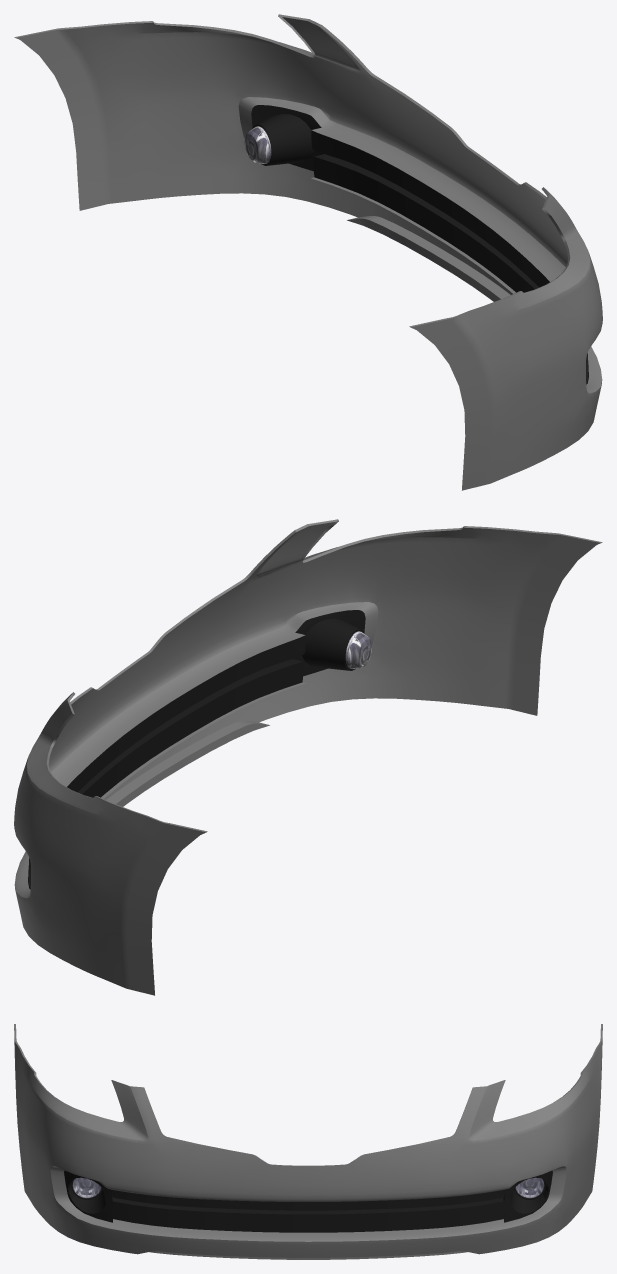
3 views of the same model, one above another, from view 1: azimuth 30°, elevation 25°; view 2: azimuth 150°, elevation 25°; view 3: azimuth 270°, elevation 25° (orthographic). The views are drawn at different scales.
Visible parts, largest first — view 1: Z187_021G_C_5_DaS_Z187_021G_C, Z187_021G_C_5_DaS_Z187_021G_C_E, Z187_021G_C_Z187_021G_C_4_D, Z187_021G_C_Z187_021G_C_2_D, Z187_021G_C_Z187_021G_C_3_N; view 2: Z187_021G_C_5_DaS_Z187_021G_C, Z187_021G_C_5_DaS_Z187_021G_C_E, Z187_021G_C_Z187_021G_C_4_D, Z187_021G_C_Z187_021G_C_2_D, Z187_021G_C_Z187_021G_C_1_N; view 3: Z187_021G_C_5_DaS_Z187_021G_C, Z187_021G_C_Z187_021G_C_4_D, Z187_021G_C_5_DaS_Z187_021G_C_E, Z187_021G_C_Z187_021G_C_2_D, Z187_021G_C_Z187_021G_C_1_N, Z187_021G_C_Z187_021G_C_3_N, Z187_021G_C_Z187_021G_C_6_DTaSI, Z187_021G_C_Z187_021G_C_7_DTaSI.
Part boxes in pixels (x1,y1,x2,y2): Z187_021G_C_5_DaS_Z187_021G_C: (16,17,602,490); Z187_021G_C_5_DaS_Z187_021G_C_E: (14,14,602,393); Z187_021G_C_Z187_021G_C_4_D: (311,130,549,292); Z187_021G_C_Z187_021G_C_2_D: (251,105,588,384); Z187_021G_C_Z187_021G_C_3_N: (244,126,271,164); Z187_021G_C_5_DaS_Z187_021G_C: (14,522,600,995); Z187_021G_C_5_DaS_Z187_021G_C_E: (14,519,602,898); Z187_021G_C_Z187_021G_C_4_D: (67,635,305,797); Z187_021G_C_Z187_021G_C_2_D: (28,610,365,889); Z187_021G_C_Z187_021G_C_1_N: (345,631,372,669); Z187_021G_C_5_DaS_Z187_021G_C: (14,1028,602,1259); Z187_021G_C_Z187_021G_C_4_D: (112,1189,504,1232); Z187_021G_C_5_DaS_Z187_021G_C_E: (14,1024,602,1241); Z187_021G_C_Z187_021G_C_2_D: (64,1170,552,1222); Z187_021G_C_Z187_021G_C_1_N: (72,1177,101,1198); Z187_021G_C_Z187_021G_C_3_N: (515,1177,544,1198); Z187_021G_C_Z187_021G_C_6_DTaSI: (73,1178,100,1197); Z187_021G_C_Z187_021G_C_7_DTaSI: (516,1178,543,1197).
Bounding box in the file's own units: 87.09 × 58.72 × 206.
